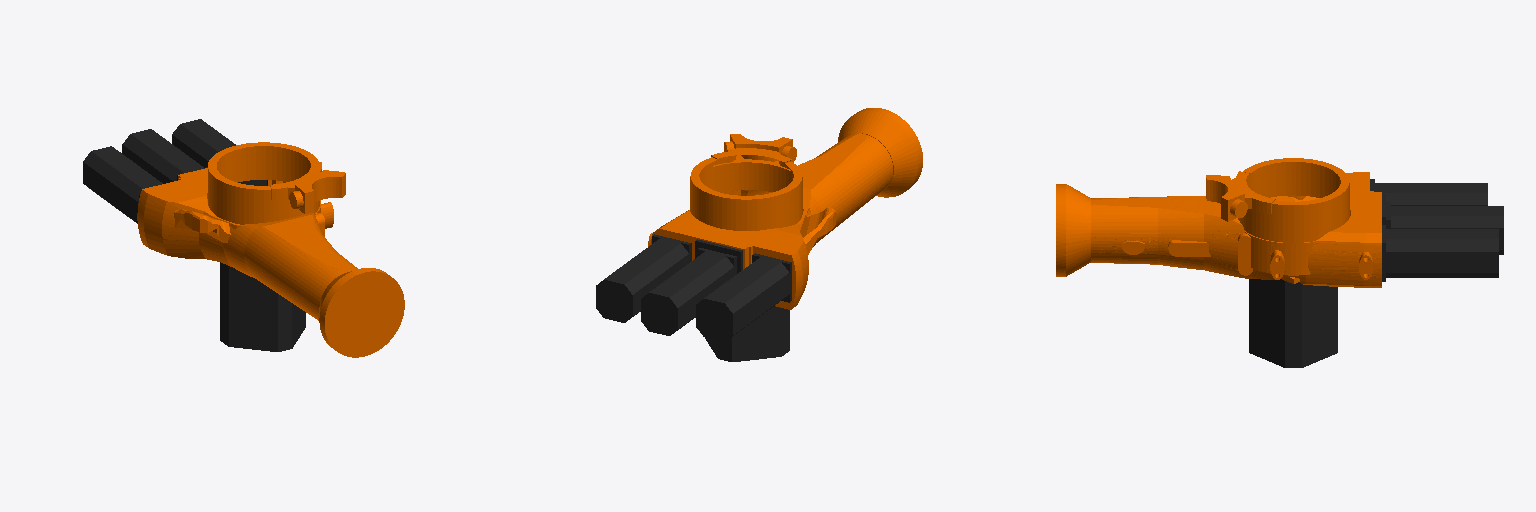
Rendered from Eslabon3.obj.
3 views of the same model, side by side, from view 1: azimuth 30°, elevation 25°; view 2: azimuth 150°, elevation 25°; view 3: azimuth 270°, elevation 25° (orthographic).
Visible parts, largest first — view 1: default001, default; view 2: default001, default; view 3: default001, default.
Part boxes in pixels (x1,y1,x2,y2): default001: (83, 119, 404, 357); default: (220, 262, 305, 351); default001: (596, 108, 922, 341); default: (705, 306, 789, 361); default001: (1056, 158, 1503, 287); default: (1249, 279, 1337, 367).
Bounding box in the file's own units: 0.2874 × 0.3244 × 0.7582.